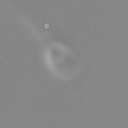normal: (1, 1, 43, 49)
